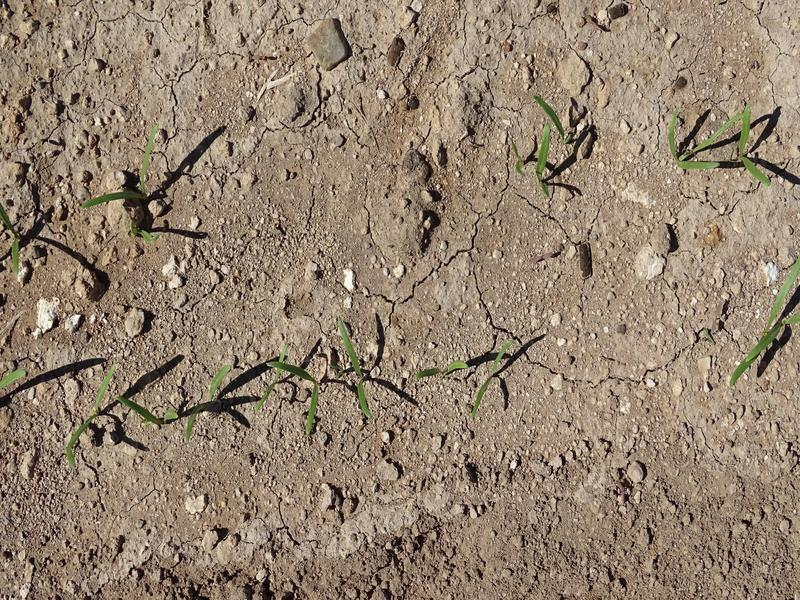Espinaca: (57, 366, 180, 456), (661, 104, 775, 187), (728, 257, 797, 390), (80, 123, 164, 211), (258, 345, 328, 435), (526, 92, 573, 203), (333, 316, 379, 422), (186, 361, 238, 439), (469, 341, 512, 418)
